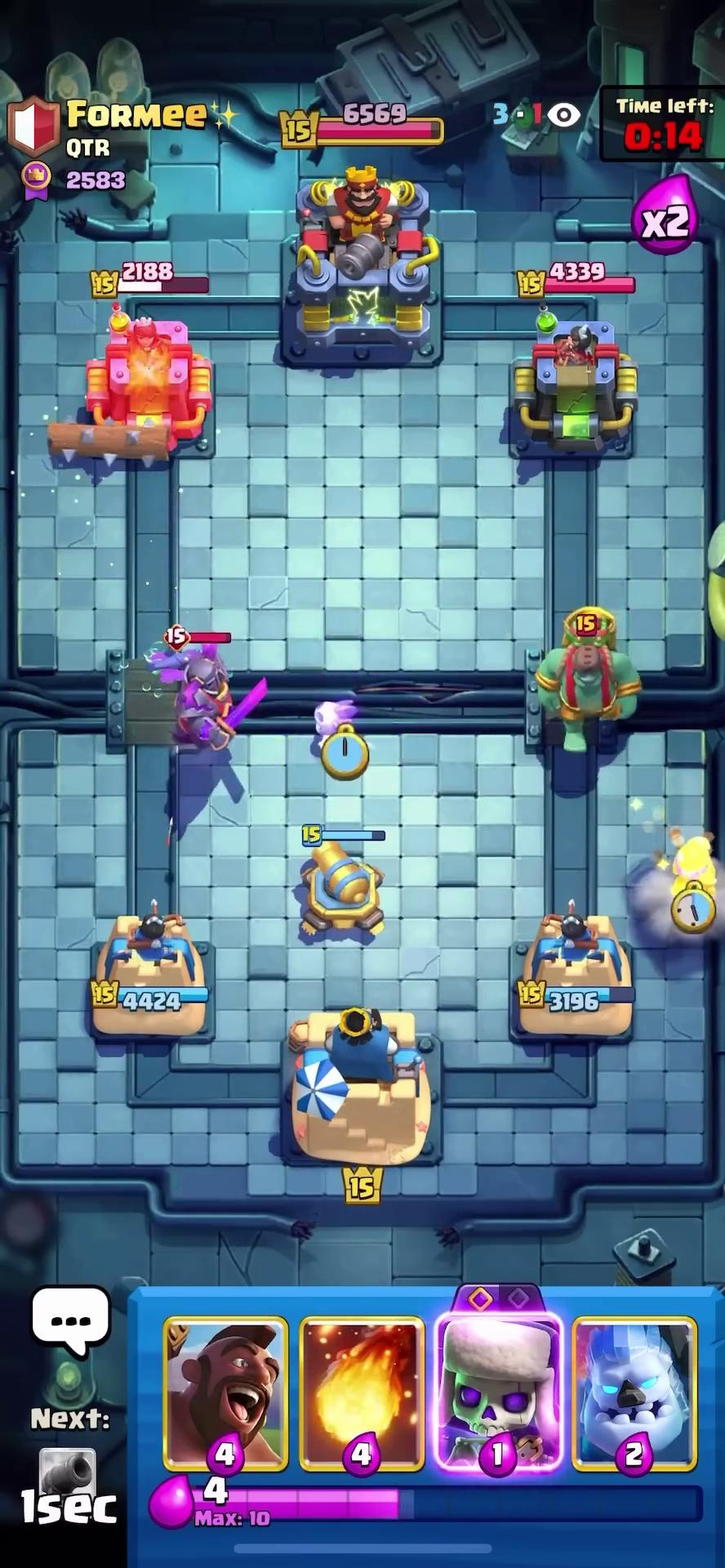cannon: (280, 811, 404, 943)
evo_ice_spirit: (298, 686, 359, 764)
musketeer: (661, 819, 725, 909)
